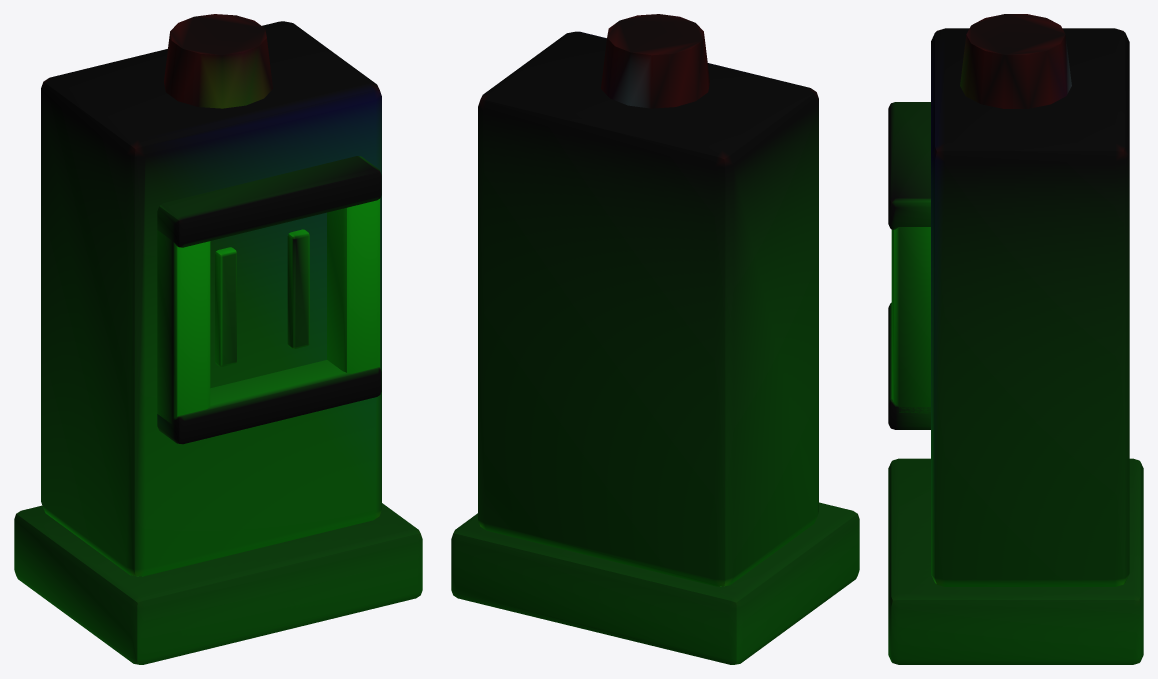
The model's file is hero_puzzle_fuse_box.glb.
3 views of the same model, side by side, from view 1: azimuth 30°, elevation 25°; view 2: azimuth 150°, elevation 25°; view 3: azimuth 270°, elevation 25° (orthographic).
Visible parts, largest first — view 1: HeroPuzzleFuseBox; view 2: HeroPuzzleFuseBox; view 3: HeroPuzzleFuseBox.
Part boxes in pixels (<box>): HeroPuzzleFuseBox: <box>14,14,422,664</box>; HeroPuzzleFuseBox: <box>451,14,859,664</box>; HeroPuzzleFuseBox: <box>888,14,1143,664</box>.
Bounding box in the file's own units: 0.96 × 1.75 × 0.72.
